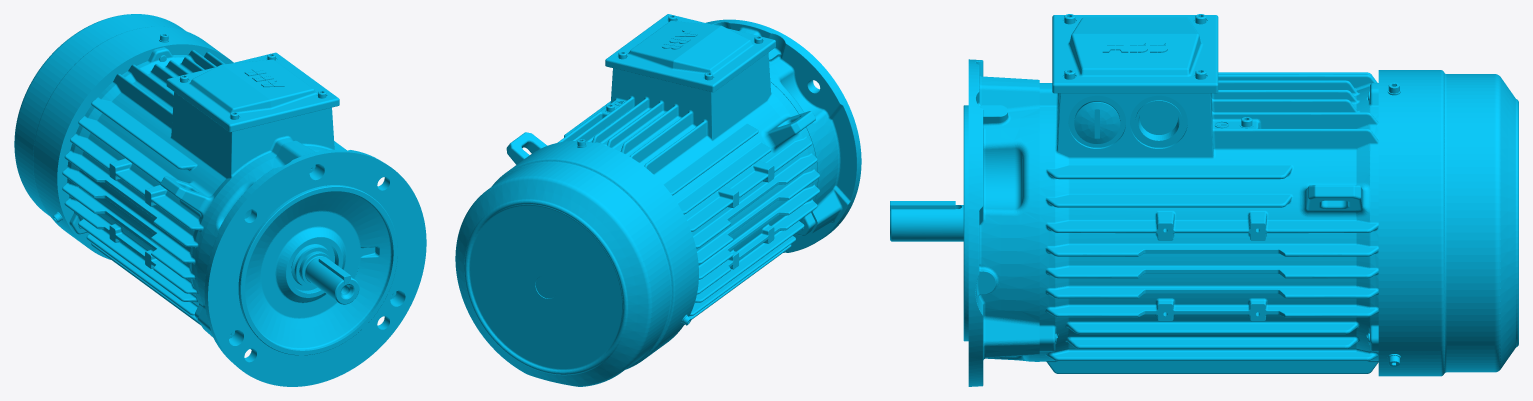
The model's file is Motor M2QA112.glb.
3 views of the same model, side by side, from view 1: azimuth 30°, elevation 25°; view 2: azimuth 150°, elevation 25°; view 3: azimuth 270°, elevation 25° (orthographic). The views are drawn at different scales.
Parts seen in each view (by area): view 1: Node1, Node5, Node3, Node4, Node2; view 2: Node1, Node3, Node5, Node2, Node4; view 3: Node3, Node1, Node5, Node2, Node4.
Boxes of the visible parts, left/top/right/bottom form: Node1: left=14, top=14, right=426, bottom=386; Node5: left=166, top=52, right=397, bottom=362; Node3: left=65, top=47, right=334, bottom=323; Node4: left=62, top=97, right=346, bottom=325; Node2: left=63, top=54, right=346, bottom=349; Node1: left=455, top=19, right=861, bottom=386; Node3: left=506, top=52, right=819, bottom=292; Node5: left=605, top=14, right=857, bottom=252; Node2: left=565, top=92, right=818, bottom=276; Node4: left=564, top=101, right=819, bottom=324; Node3: left=1039, top=72, right=1378, bottom=373; Node1: left=968, top=59, right=1518, bottom=386; Node5: left=890, top=14, right=1253, bottom=385; Node2: left=1045, top=83, right=1378, bottom=362; Node4: left=1046, top=165, right=1378, bottom=360.
Size of the model in its own units: 250 by 281 by 479.
